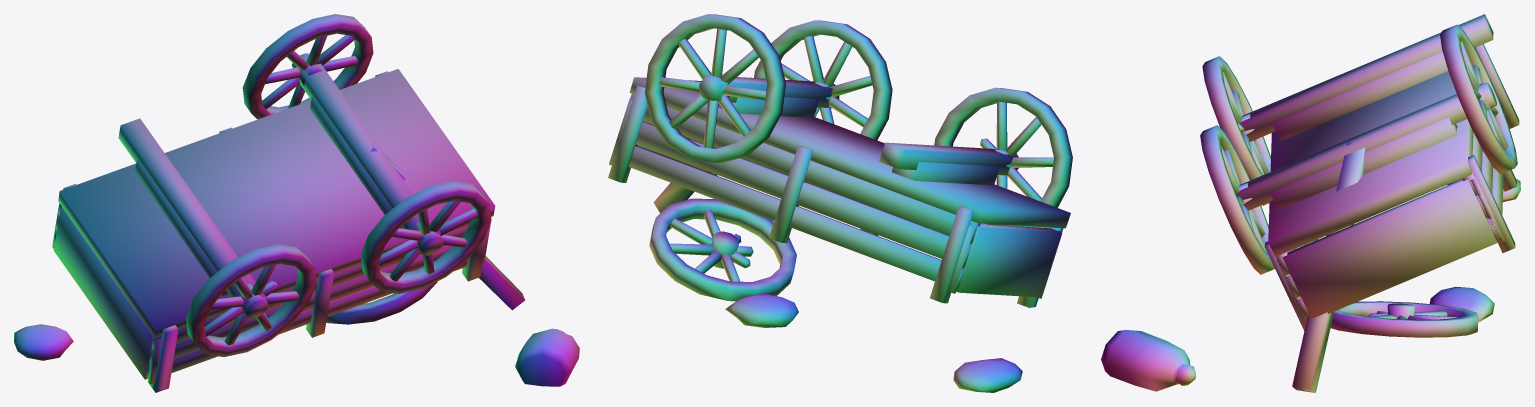
Rendered from SM_Prop_March_SheepfoldWagon_B.fbx.
The picture shows the model from 3 angles, left to right: view 1: azimuth 30°, elevation 25°; view 2: azimuth 150°, elevation 25°; view 3: azimuth 270°, elevation 25°; orthographic projection. The views are drawn at different scales.
Visible parts, largest first — view 1: SM_Prop_March_SheepfoldWagon_B; view 2: SM_Prop_March_SheepfoldWagon_B; view 3: SM_Prop_March_SheepfoldWagon_B.
Part boxes in pixels (x1=…): SM_Prop_March_SheepfoldWagon_B: x1=14, y1=14, x2=579, y2=392; SM_Prop_March_SheepfoldWagon_B: x1=608, y1=14, x2=1072, y2=392; SM_Prop_March_SheepfoldWagon_B: x1=1101, y1=14, x2=1520, y2=392.
Size of the model in its own units: 2.93 by 1.82 by 2.29.
